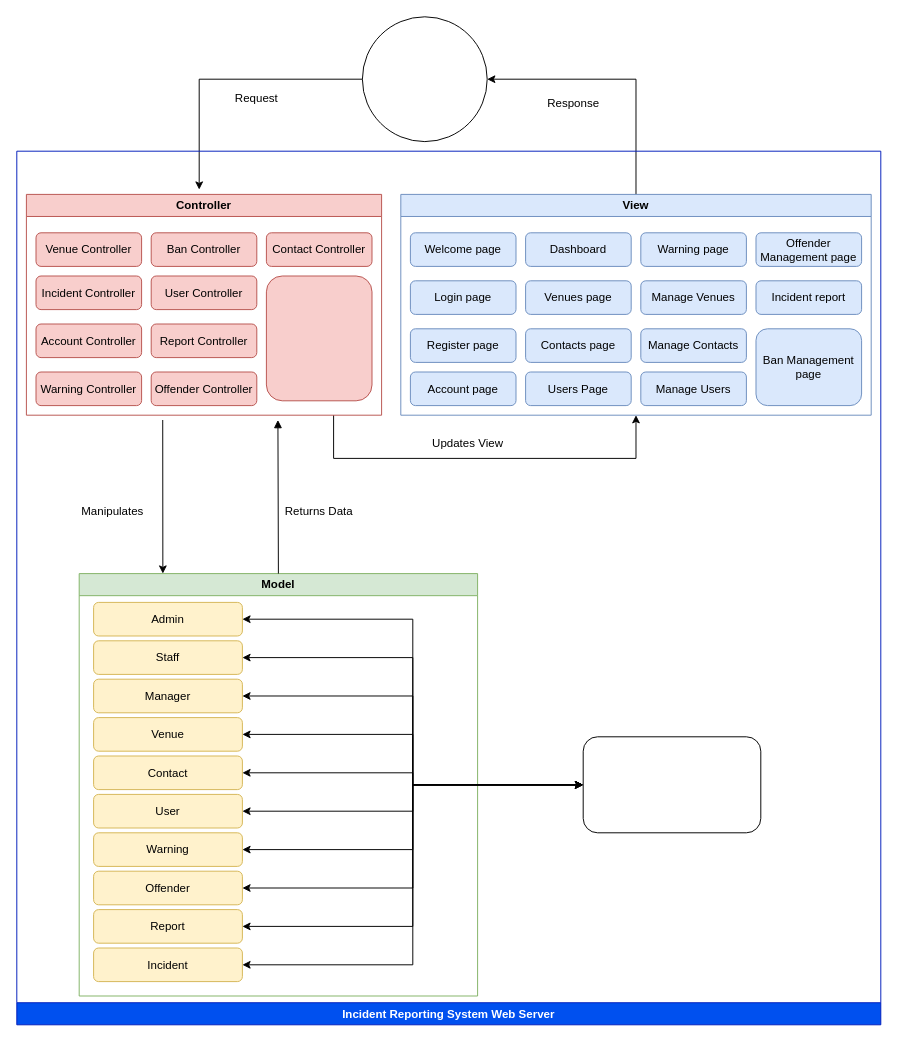
Some shapes in this 898 by 1042 pixel diagram are drawn without their labels. Each missing label, with the centre of its shape:
"Admin, Staff, Manager Authentication" goes at point 318,338.
"Client" goes at point 424,79.
"Mongo Database" goes at point 671,784.
